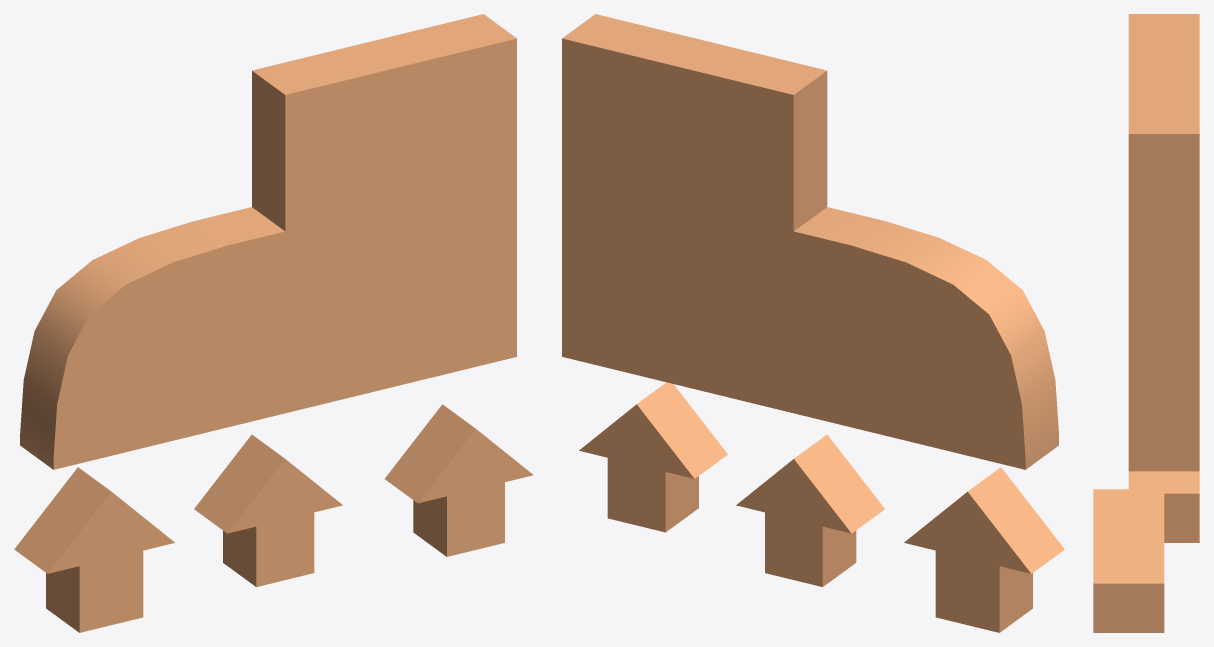
The model's file is Jump.obj.
The picture shows the model from 3 angles, left to right: view 1: azimuth 30°, elevation 25°; view 2: azimuth 150°, elevation 25°; view 3: azimuth 270°, elevation 25°; orthographic projection. The views are drawn at different scales.
Parts seen in each view (by area): view 1: JUMP; view 2: JUMP; view 3: JUMP.
Part boxes in pixels (x1,y1,x2,y2): JUMP: (14,14,533,632); JUMP: (562,14,1064,632); JUMP: (1093,14,1199,632).
Bounding box in the file's own units: 4.05 × 4.02 × 0.75.
